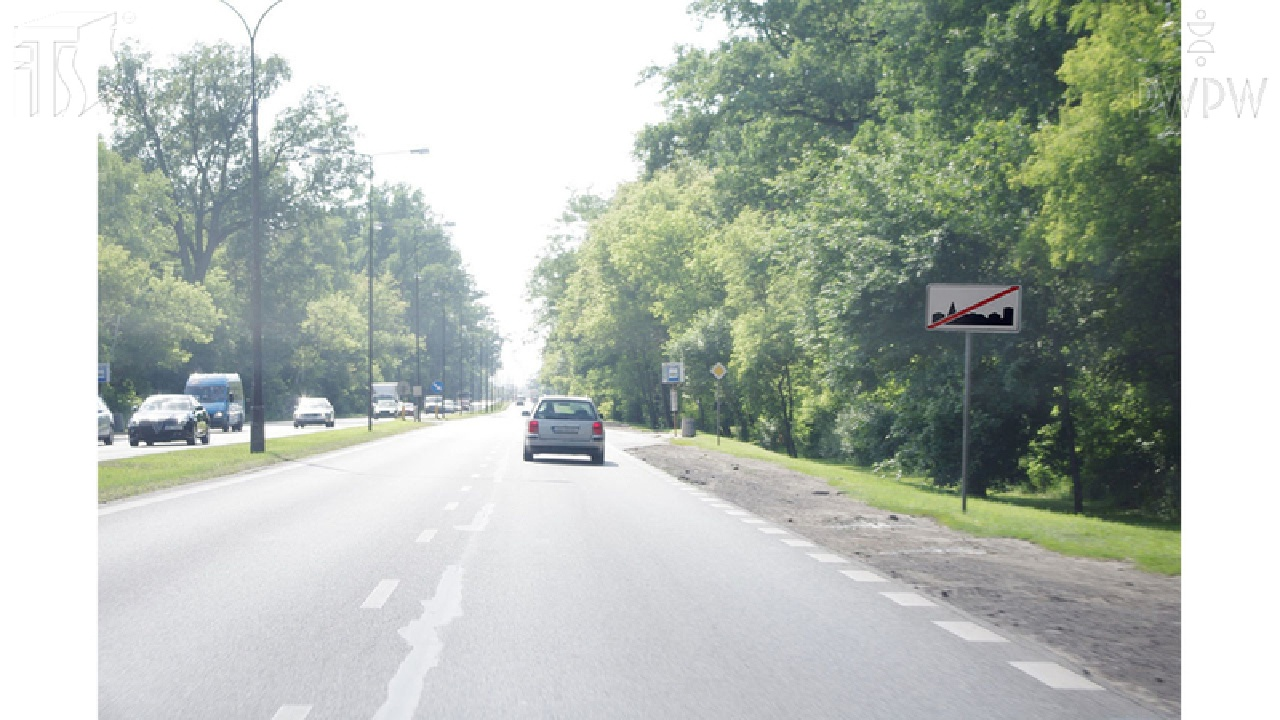D43: (925, 282, 1021, 333)
